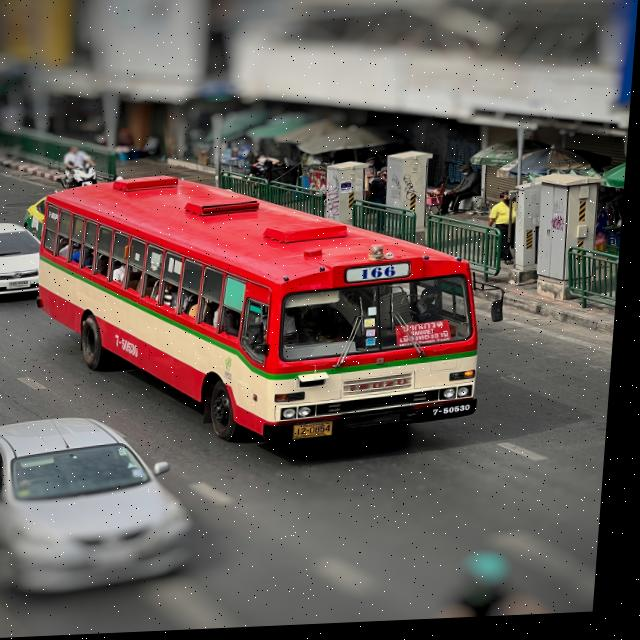BMTA-bus: (11, 166, 499, 456)
Bus-Line-Number: (352, 265, 418, 288)
Destination-Sign-Normal: (399, 323, 460, 350)
